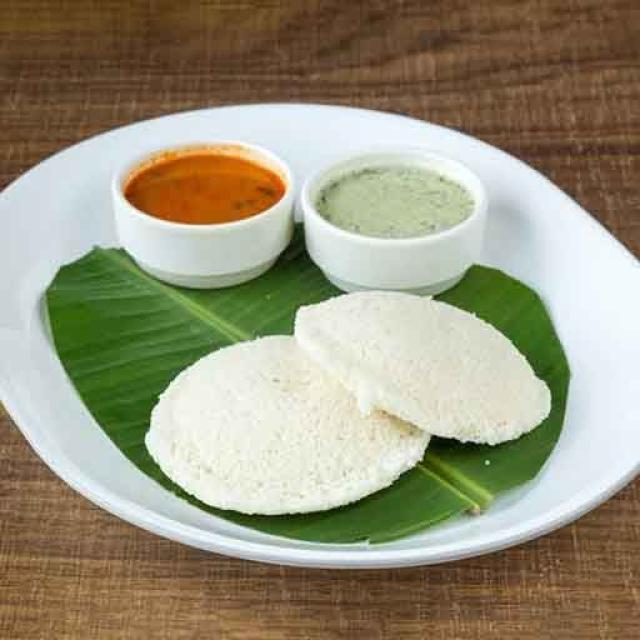chutney: (322, 166, 475, 237)
idly: (139, 333, 413, 510), (303, 300, 560, 436)
